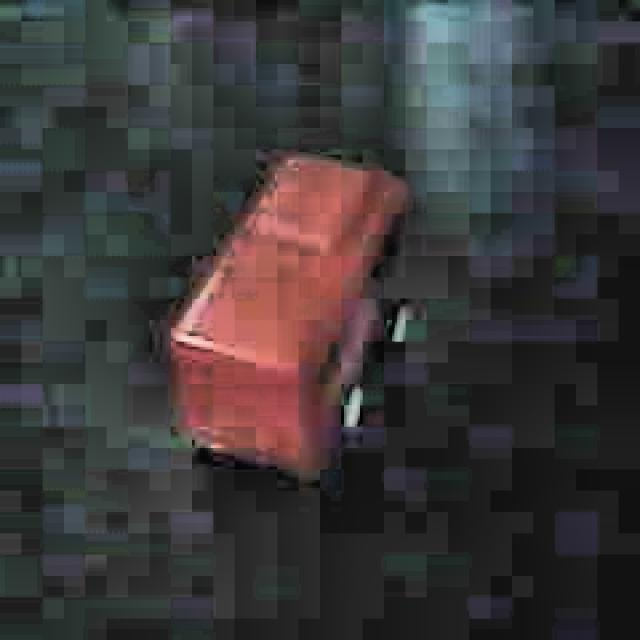bus: (159, 150, 416, 493)
